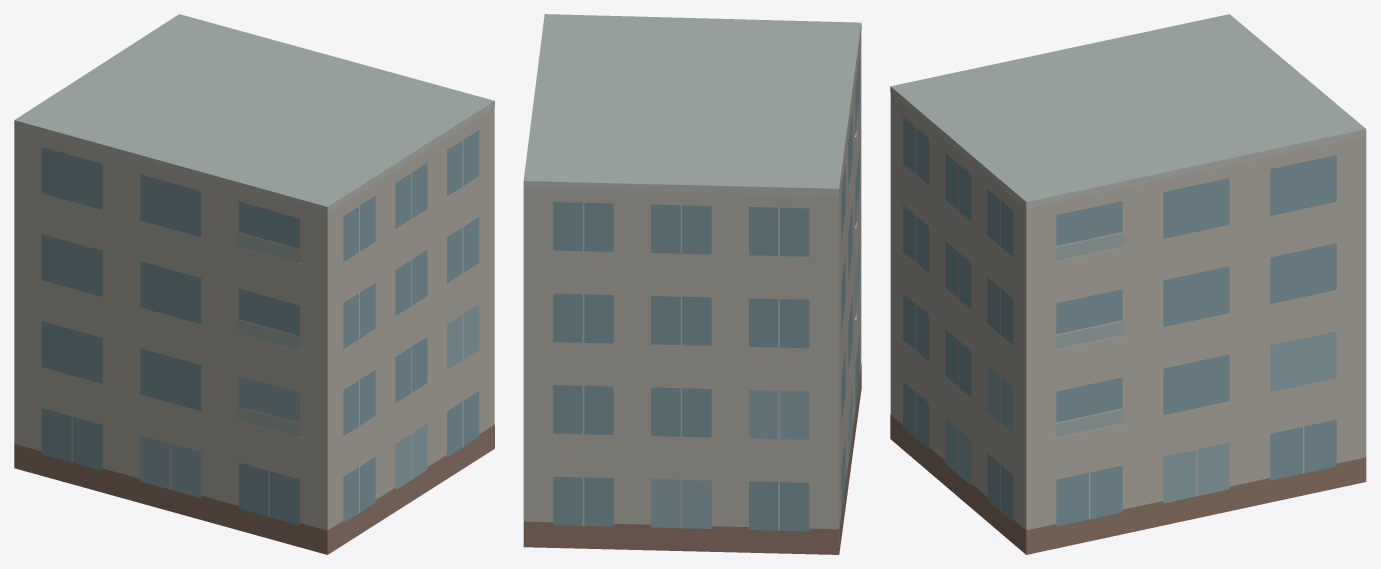
Rendered from survey-upis-32738260.glb.
3 views of the same model, side by side, from view 1: azimuth 30°, elevation 25°; view 2: azimuth 150°, elevation 25°; view 3: azimuth 270°, elevation 25° (orthographic). The views are drawn at different scales.
Parts seen in each view (by area): view 1: survey-upis-32738260.tmp; view 2: survey-upis-32738260.tmp; view 3: survey-upis-32738260.tmp.
Part boxes in pixels (box(x1,y1,x2,y2)): survey-upis-32738260.tmp: box(14, 14, 494, 554); survey-upis-32738260.tmp: box(523, 14, 861, 554); survey-upis-32738260.tmp: box(890, 14, 1366, 554).
Bounding box in the file's own units: 14.64 × 12.8 × 15.66.
